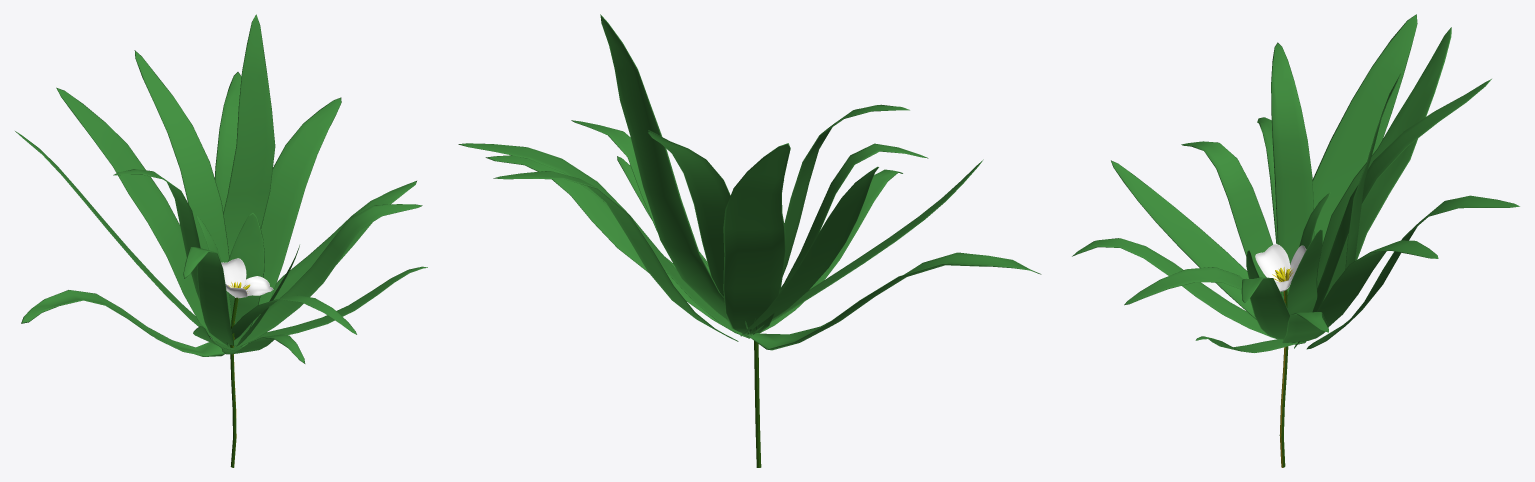
File: Stratiotes aloides.fbx
3 views of the same model, side by side, from view 1: azimuth 30°, elevation 25°; view 2: azimuth 150°, elevation 25°; view 3: azimuth 270°, elevation 25° (orthographic). The views are drawn at different scales.
Parts seen in each view (by area): view 1: Leaf.074, Leaf.067, Leaf.062, Leaf.061, Leaf.059, Leaf.063, Leaf.065, Leaf.064, Leaf.073, Leaf.060, Leaf.075, Leaf.069 (+6 smaller); view 2: Leaf.062, Leaf.074, Leaf.069, Leaf.061, Leaf.060, Leaf.064, Leaf.073, Leaf.067, Leaf.075, Leaf.063, Leaf.072, Leaf.070 (+2 smaller); view 3: Leaf.069, Leaf.075, Leaf.062, Leaf.072, Leaf.063, Leaf.061, Leaf.067, Leaf.070, Leaf.059, Leaf.065, Leaf.073, Leaf.066 (+7 smaller).
Part boxes in pixels (x1,y1,x2,y2): Leaf.074: [223, 14, 275, 256]; Leaf.067: [258, 97, 341, 315]; Leaf.062: [56, 87, 223, 348]; Leaf.061: [134, 50, 229, 262]; Leaf.059: [234, 204, 422, 346]; Leaf.063: [183, 247, 233, 345]; Leaf.065: [228, 213, 264, 341]; Leaf.064: [21, 290, 224, 356]; Leaf.073: [214, 72, 241, 212]; Leaf.060: [242, 181, 416, 346]; Leaf.075: [113, 169, 227, 345]; Leaf.069: [15, 131, 226, 345]; Leaf.062: [723, 143, 790, 333]; Leaf.074: [600, 14, 727, 319]; Leaf.069: [741, 166, 878, 336]; Leaf.061: [647, 130, 757, 332]; Leaf.060: [485, 155, 737, 333]; Leaf.064: [743, 252, 1041, 350]; Leaf.073: [493, 171, 738, 341]; Leaf.067: [458, 143, 749, 338]; Leaf.075: [747, 104, 909, 334]; Leaf.063: [751, 143, 928, 334]; Leaf.072: [750, 159, 983, 333]; Leaf.070: [755, 169, 902, 333]; Leaf.069: [1295, 14, 1417, 344]; Leaf.075: [1271, 42, 1314, 299]; Leaf.062: [1302, 27, 1451, 342]; Leaf.072: [1111, 160, 1256, 319]; Leaf.063: [1181, 141, 1281, 293]; Leaf.061: [1312, 79, 1491, 312]; Leaf.067: [1291, 240, 1438, 343]; Leaf.070: [1072, 238, 1301, 343]; Leaf.059: [1241, 277, 1290, 339]; Leaf.065: [1287, 229, 1322, 314]; Leaf.073: [1306, 195, 1519, 349]; Leaf.066: [1124, 267, 1301, 343].
Size of the model in its own units: 1809 by 1596 by 1482.
